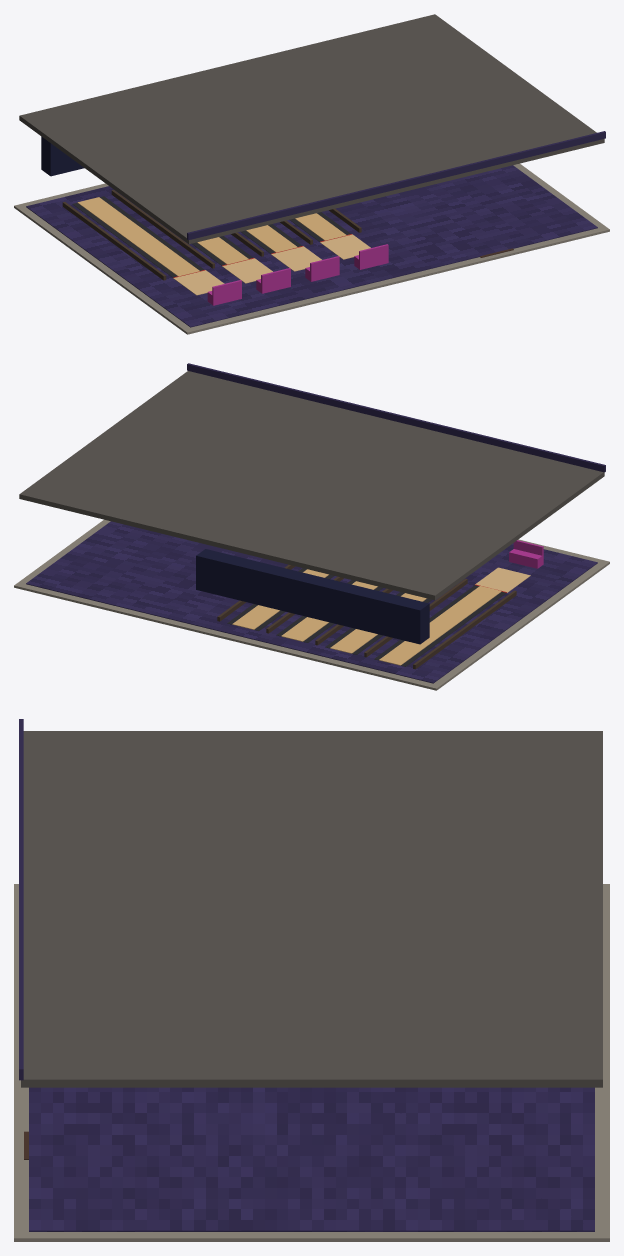
Rendered from structure.glb.
The picture shows the model from 3 angles, top to bottom: view 1: azimuth 30°, elevation 25°; view 2: azimuth 150°, elevation 25°; view 3: azimuth 270°, elevation 25°; orthographic projection. The views are drawn at different scales.
Parts seen in each view (by area): view 1: Box5, Box2, Box1, Box6, Box8, Box7, Box40, Box41, Box11, Box19, Box27, Box35 (+5 smaller); view 2: Box5, Box2, Box7, Box1, Box6, Box8, Box11, Box40, Box32, Box24, Box16, Box9 (+2 smaller); view 3: Box5, Box2, Box1, Box6.
Part boxes in pixels (x1,y1,x2,y2): Box5: (19, 14, 604, 244); Box2: (26, 165, 597, 327); Box1: (14, 163, 609, 334); Box6: (187, 131, 605, 240); Box8: (77, 197, 199, 276); Box7: (41, 136, 84, 176); Box40: (62, 202, 166, 280); Box41: (111, 190, 214, 268); Box11: (173, 270, 224, 295); Box19: (222, 258, 272, 283); Box27: (271, 246, 321, 271); Box35: (320, 234, 370, 259); Box5: (19, 371, 604, 600); Box2: (26, 521, 597, 683); Box7: (196, 549, 429, 644); Box1: (14, 519, 609, 690); Box6: (187, 363, 605, 472); Box8: (379, 586, 501, 665); Box11: (475, 567, 530, 592); Box40: (413, 590, 516, 669); Box32: (232, 569, 328, 629); Box24: (281, 581, 377, 641); Box16: (330, 593, 426, 653); Box9: (401, 592, 506, 666); Box5: (21, 731, 602, 1087); Box2: (29, 1087, 594, 1231); Box1: (14, 884, 609, 1241); Box6: (19, 719, 23, 1080).
Bounding box in the file's own units: 20.74 × 4.65 × 14.74.
13 materials, 1 textured.
